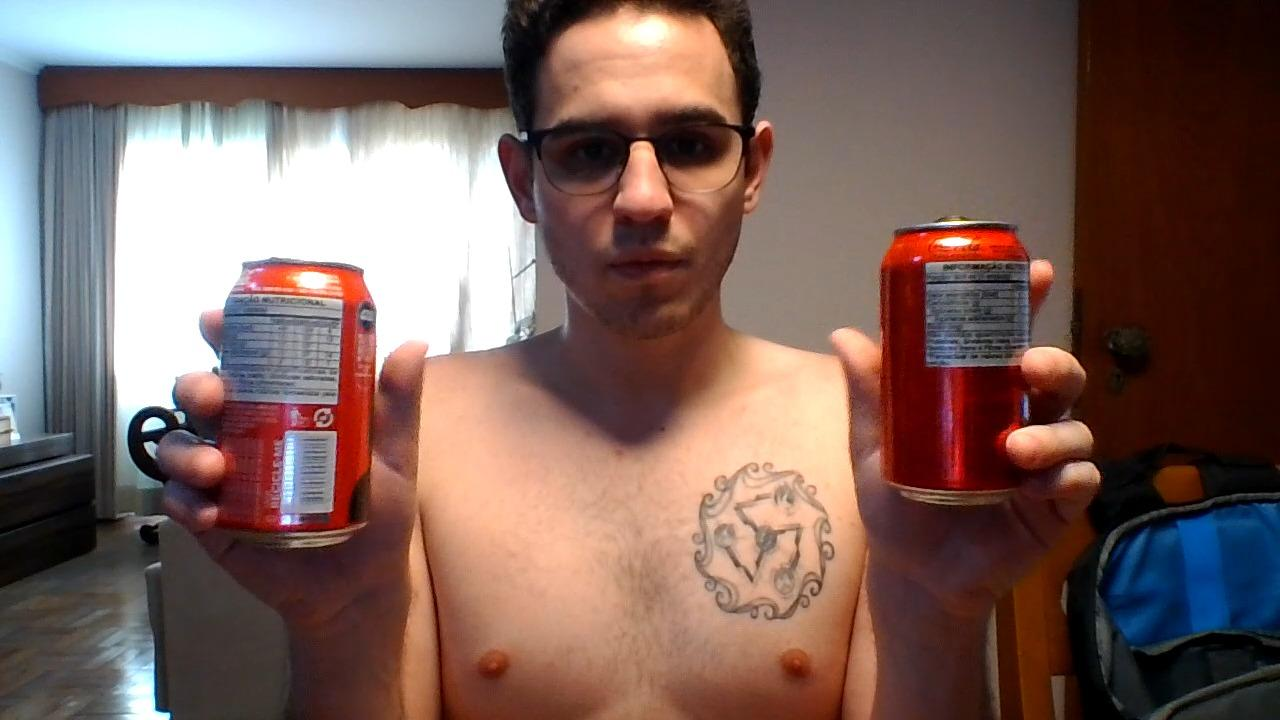coke: (214, 266, 371, 538), (883, 227, 1036, 497)
